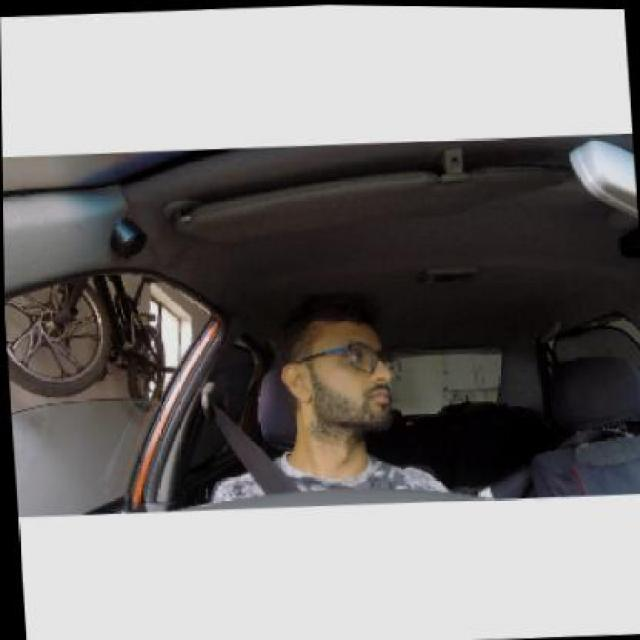LeftRight: (267, 307, 404, 433)
